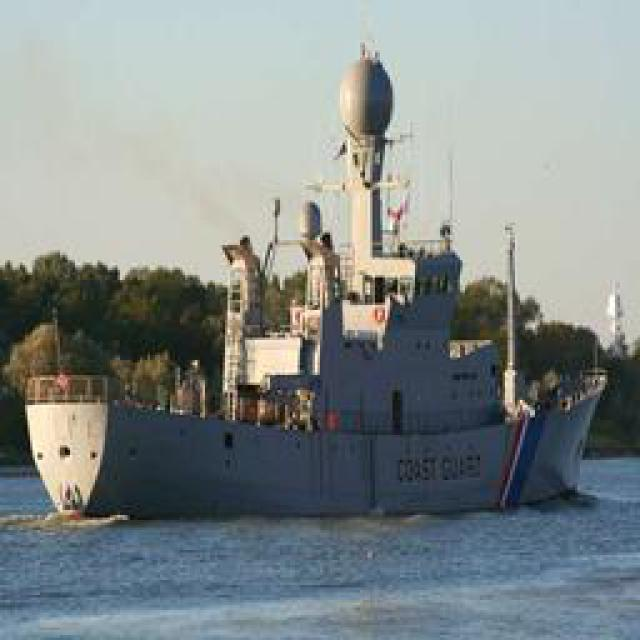Ship: (15, 225, 623, 533)
